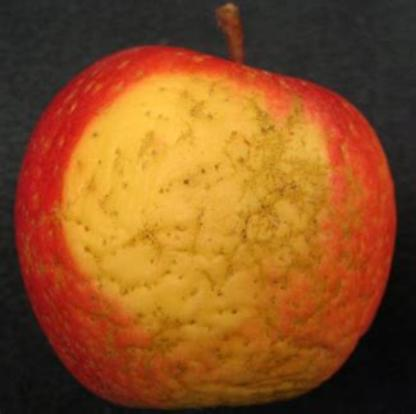defect: (55, 66, 368, 412)
